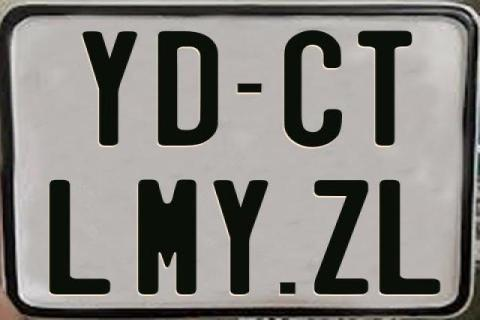C: (284, 30, 342, 152)
D: (158, 30, 223, 146)
L: (380, 179, 446, 293), (47, 180, 108, 295)
M: (136, 180, 197, 298)
T: (357, 31, 414, 147)
Y: (81, 32, 141, 146), (211, 179, 267, 296)
Z: (314, 180, 372, 298)
